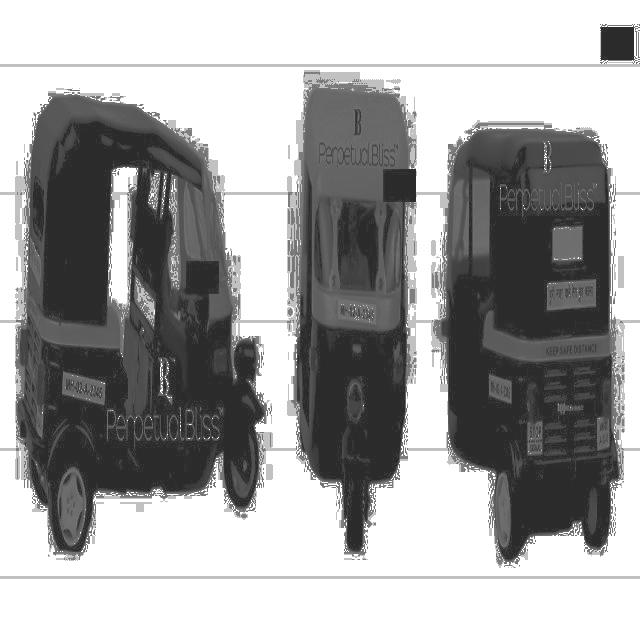Auto-Rickshaw: (20, 72, 270, 580), (441, 106, 630, 605), (291, 53, 415, 581)
